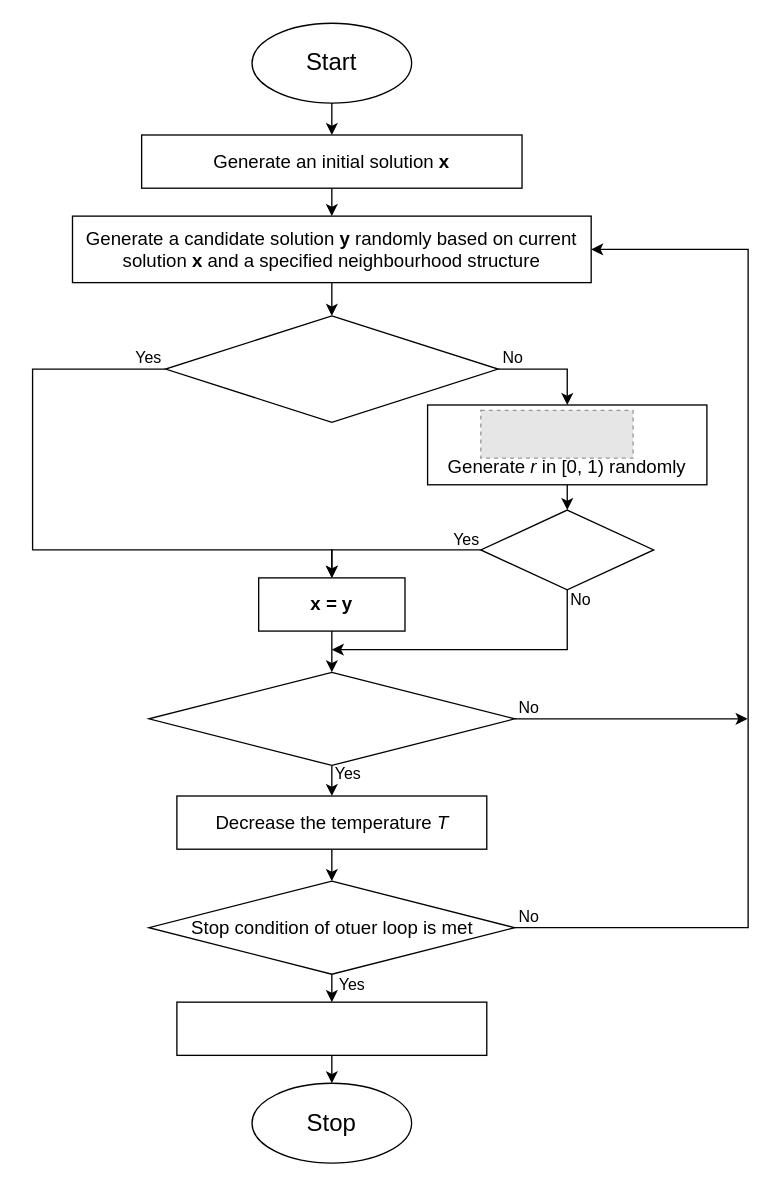
This 782x1186 diagram has some shape labels left out. Grey dashed boxes stand in for pictures. Here are the shapes that lost their labels. From the top down, the centre of each, then its label:
the point at 331,368: y is better than x ?
the point at 566,549: r < p
the point at 331,718: Stop condition of inner loop is met
the point at 331,1028: Output the solution x
